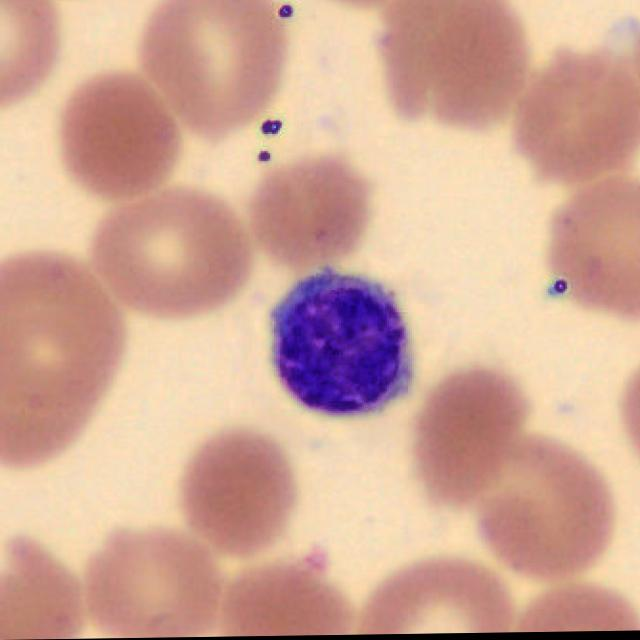Linfocito: (270, 268, 414, 418)
